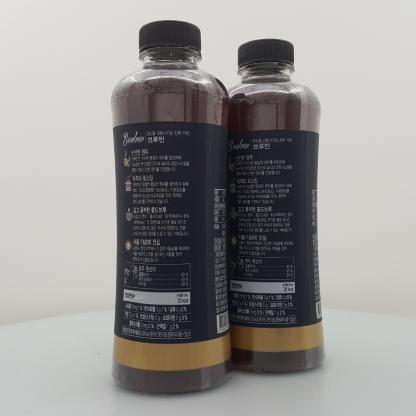-------------: (111, 20, 233, 394), (204, 38, 326, 373)
